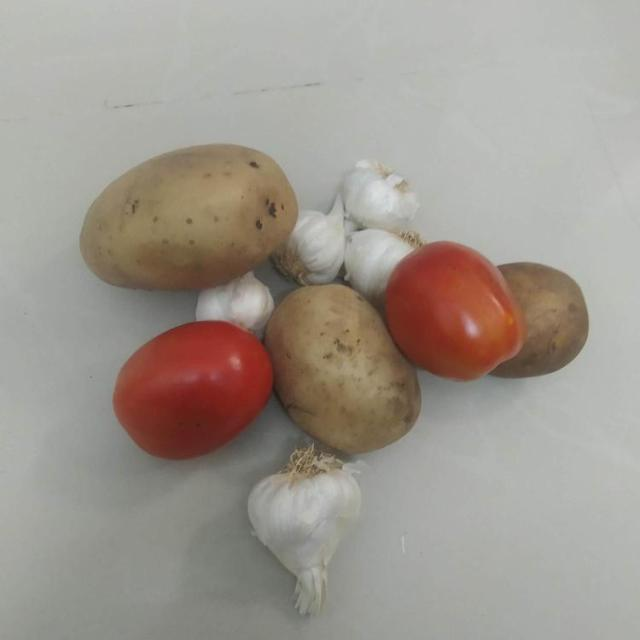Organik: (75, 140, 301, 287), (269, 284, 420, 453), (109, 321, 274, 464), (246, 446, 366, 624), (385, 240, 530, 380), (519, 262, 592, 380), (338, 160, 416, 231)
